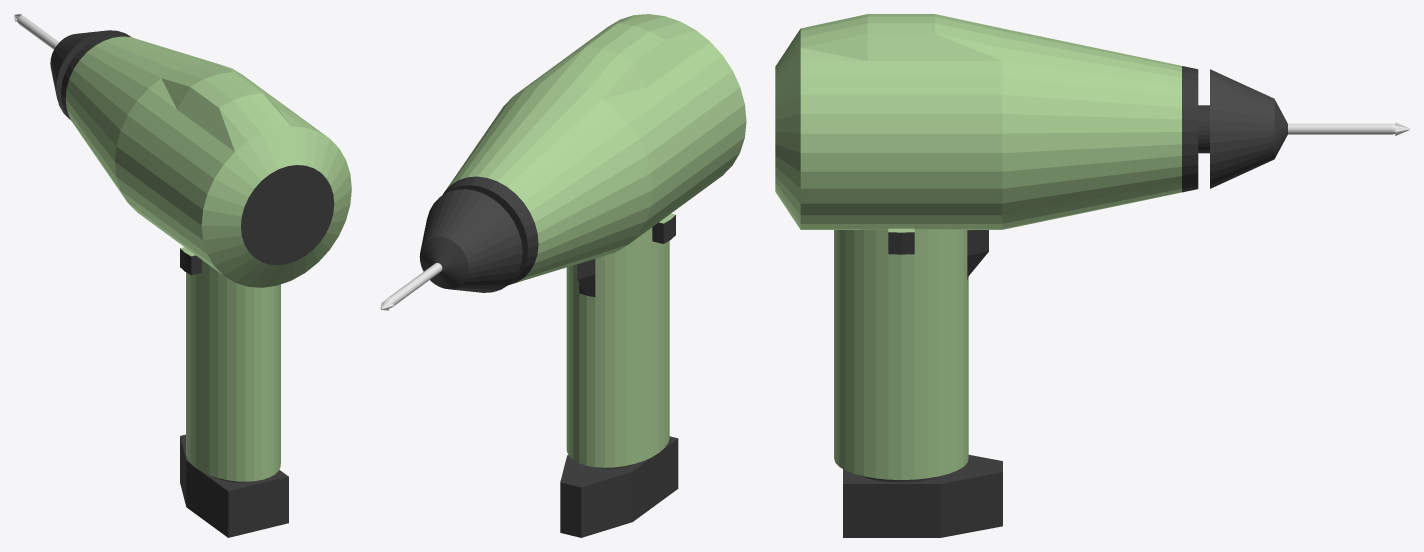
File: wkrentarka.fbx
3 views of the same model, side by side, from view 1: azimuth 30°, elevation 25°; view 2: azimuth 150°, elevation 25°; view 3: azimuth 270°, elevation 25° (orthographic). The views are drawn at different scales.
Parts seen in each view (by area): view 1: Cylinder, Cylinder.001; view 2: Cylinder, Cylinder.001; view 3: Cylinder, Cylinder.001.
Boxes of the visible parts, box(x1,y1,x2,y2) form: Cylinder: box(61, 34, 351, 537); Cylinder.001: box(14, 14, 131, 119); Cylinder: box(442, 14, 746, 537); Cylinder.001: box(380, 189, 522, 310); Cylinder: box(775, 14, 1209, 537); Cylinder.001: box(1210, 69, 1409, 188).
Size of the model in its own units: 200 by 544 by 629.
